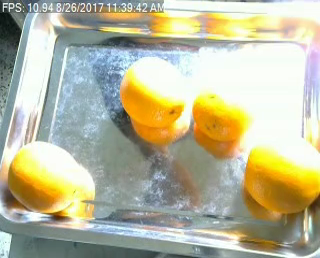Orange: (242, 137, 319, 213), (8, 141, 78, 213)
